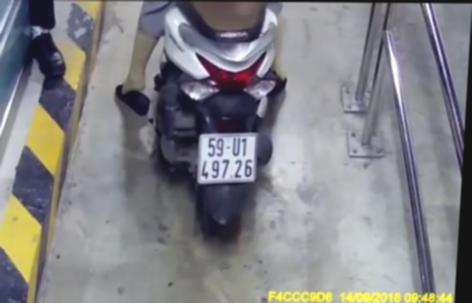License_Plate: (191, 131, 262, 190)
